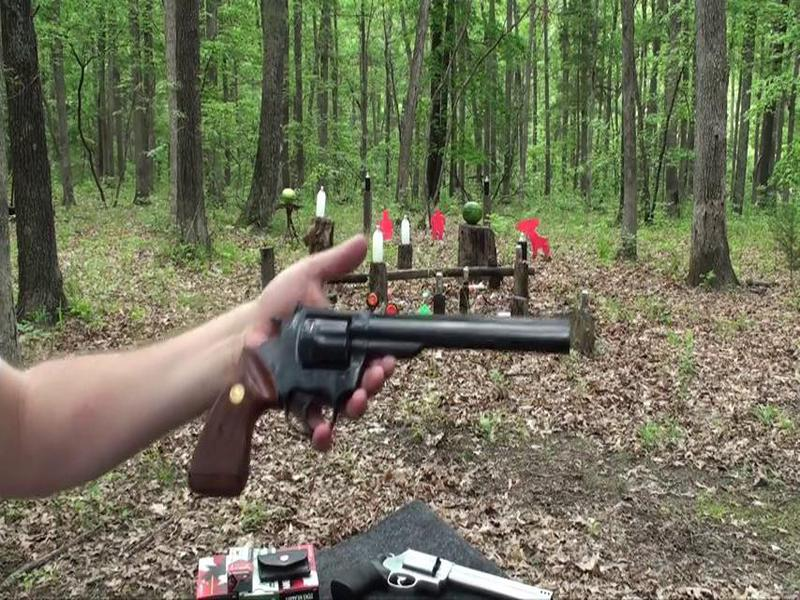Revolver: (188, 297, 577, 502)
